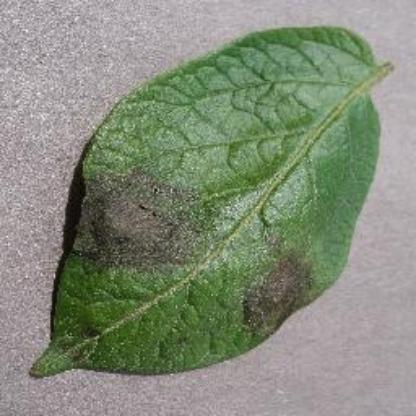Late-Blight: (26, 22, 394, 380)
